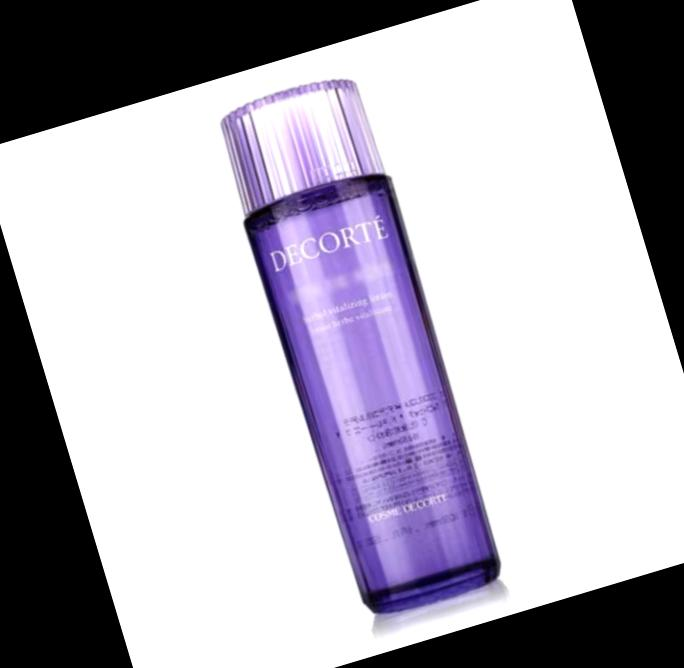cosmetic: (203, 72, 515, 626)
